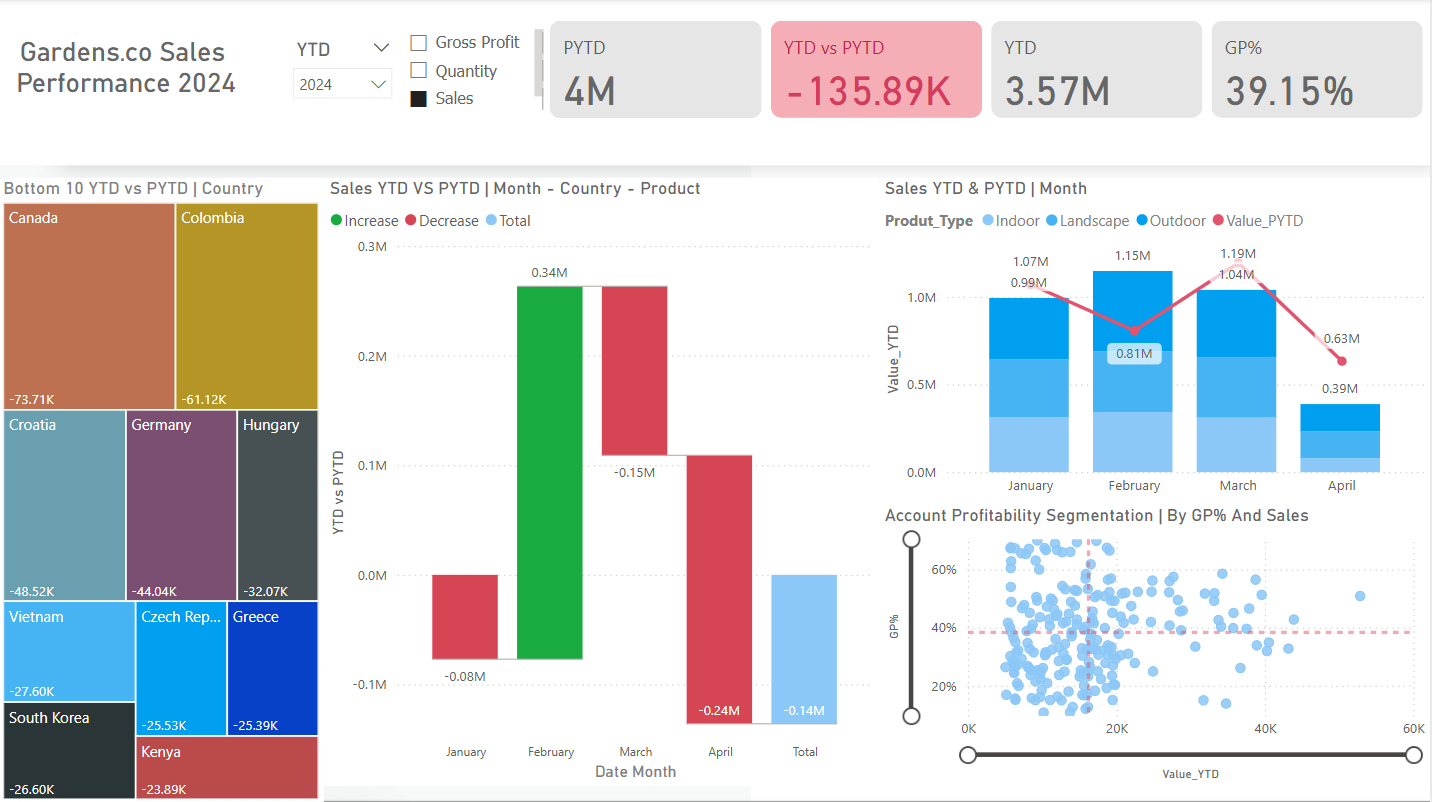

Layout of this report page (visuals, bound fields, positions):
{"tool":"powerbi","page":{"name":"Performance_report","canvas":[1280,720],"ordinal":0},"visuals":[{"type":"cardVisual","fields":{"Data":["formulas.sl_PYTD","formulas.YTD vs PYTD","formulas.sl_YTD","formulas.GP%"]},"box":[488,14.5,792.8,97.1],"z":0},{"type":"slicer","fields":{"Values":["slicer_values.Values"]},"box":[358.4,24.6,129.5,78.2],"z":1000},{"type":"slicer","fields":{"Values":["date_data.Date.Variation.Date Hierarchy.Year"]},"box":[254.6,31.3,103.8,64.8],"z":2000},{"type":"treemap","title":"Bottom 10 YTD vs PYTD | Country","fields":{"Values":["formulas.YTD vs PYTD"],"Group":["Accounts_data.country"]},"box":[0,159.7,291.4,560.5],"z":3000},{"type":"waterfallChart","fields":{"Y":["formulas.YTD vs PYTD"],"Category":["date_data.Date.Variation.Date Hierarchy.Month","Accounts_data.country","product_data.Produt_Type","product_data.Product_Name"]},"box":[291.8,159.4,495.3,543.1],"z":4000},{"type":"lineStackedColumnComboChart","fields":{"Y":["formulas.sl_YTD"],"Y2":["formulas.sl_PYTD"],"Category":["date_data.Date.Variation.Date Hierarchy.Month","date_data.Date.Variation.Date Hierarchy.Quarter"],"Series":["product_data.Produt_Type"]},"box":[787.1,159.4,492.9,293],"z":5000},{"type":"scatterChart","fields":{"Y":["formulas.GP%"],"X":["formulas.sl_YTD"],"Category":["Accounts_data.Account"]},"box":[787.4,452.3,492.3,250.6],"z":5001},{"type":"card","fields":{"Values":["formulas.Report_title"]},"box":[0,7.8,228.9,103.8],"z":5002}]}

Visuals, with their boxes in screenshot pixels (x1, y1, x2, y2), scaled from the page's 1280x720 canvas onto the 1432x802 screenshot:
cardVisual - formulas.sl_PYTD x formulas.YTD vs PYTD: pyautogui.locateOnScreen(546, 16, 1431, 124)
slicer - slicer_values.Values: pyautogui.locateOnScreen(401, 27, 546, 115)
slicer - date_data.Date.Variation.Date Hierarchy.Year: pyautogui.locateOnScreen(285, 35, 401, 107)
"Bottom 10 YTD vs PYTD | Country" treemap: pyautogui.locateOnScreen(0, 178, 326, 801)
waterfallChart - formulas.YTD vs PYTD x date_data.Date.Variation.Date Hierarchy.Month: pyautogui.locateOnScreen(326, 178, 881, 783)
lineStackedColumnComboChart - formulas.sl_YTD x formulas.sl_PYTD: pyautogui.locateOnScreen(881, 178, 1431, 504)
scatterChart - formulas.GP% x formulas.sl_YTD: pyautogui.locateOnScreen(881, 504, 1431, 783)
card - formulas.Report_title: pyautogui.locateOnScreen(0, 9, 256, 124)
